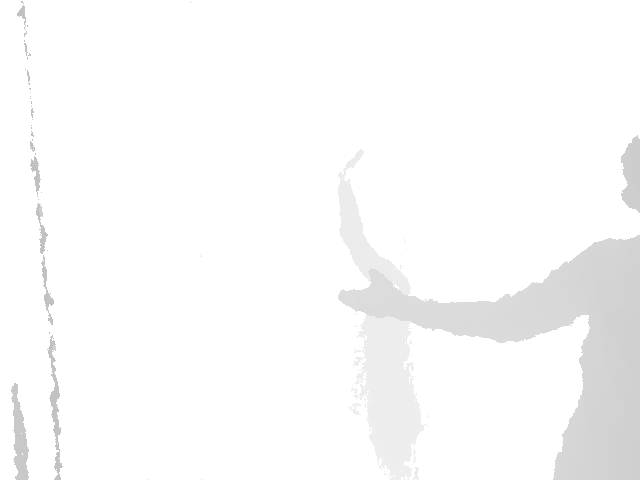hand: (336, 148, 365, 179)
head: (619, 136, 640, 220)
person: (336, 135, 638, 480), (335, 148, 424, 480)
